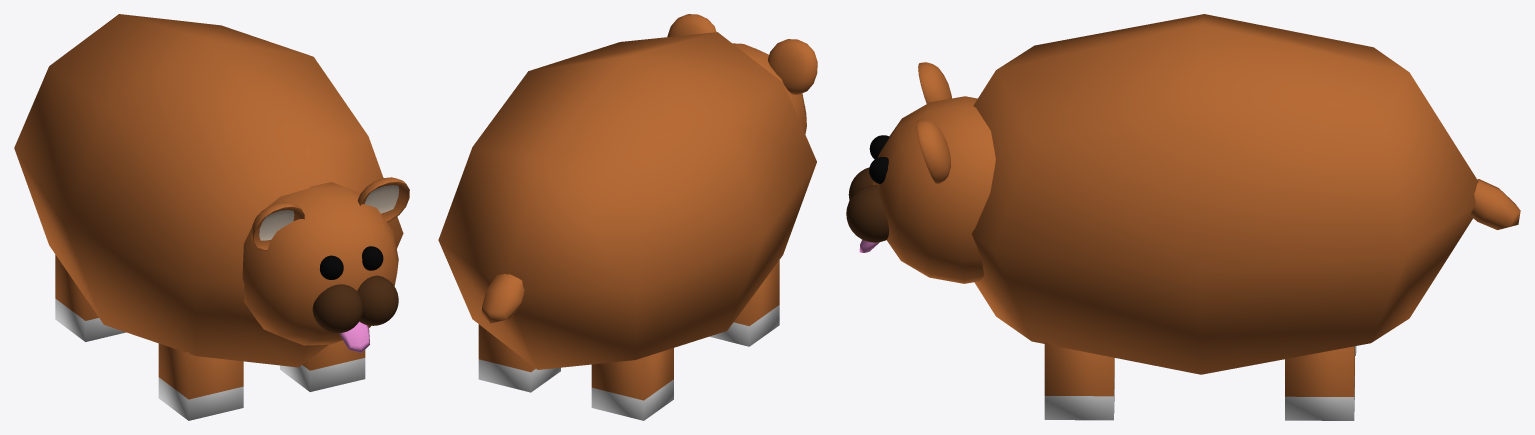
Rendered from brown-bear.glb.
The picture shows the model from 3 angles, left to right: view 1: azimuth 30°, elevation 25°; view 2: azimuth 150°, elevation 25°; view 3: azimuth 270°, elevation 25°; orthographic projection. The views are drawn at different scales.
Parts seen in each view (by area): view 1: Cube, Cube.001, Cube.002, Cube.004, Cube.003, Sphere.002, Sphere.003, Sphere.001, Cube.006; view 2: Cube, Cube.003, Cube.004, Cube.002, Cube.007, Cube.001; view 3: Cube, Cube.001, Cube.002, Cube.003, Cube.004, Sphere.003, Cube.007, Sphere.001.
Boxes of the visible parts, x1,y1,x2,y2 form: Cube: [14, 14, 403, 367]; Cube.001: [242, 182, 398, 345]; Cube.002: [158, 340, 365, 420]; Cube.004: [251, 177, 409, 250]; Cube.003: [55, 255, 125, 341]; Sphere.002: [312, 284, 362, 333]; Sphere.003: [357, 275, 398, 325]; Sphere.001: [319, 246, 383, 279]; Cube.006: [339, 321, 369, 353]; Cube: [438, 32, 816, 369]; Cube.003: [478, 324, 673, 420]; Cube.004: [667, 14, 817, 94]; Cube.002: [709, 259, 779, 346]; Cube.007: [481, 274, 524, 323]; Cube.001: [732, 43, 806, 133]; Cube: [971, 14, 1478, 374]; Cube.001: [873, 96, 995, 283]; Cube.002: [1044, 341, 1114, 420]; Cube.003: [1285, 346, 1356, 420]; Cube.004: [916, 62, 951, 184]; Sphere.003: [846, 185, 888, 242]; Cube.007: [1470, 179, 1520, 229]; Sphere.001: [869, 135, 889, 183].
Bounding box in the file's own units: 2.64 × 2.71 × 4.77.
